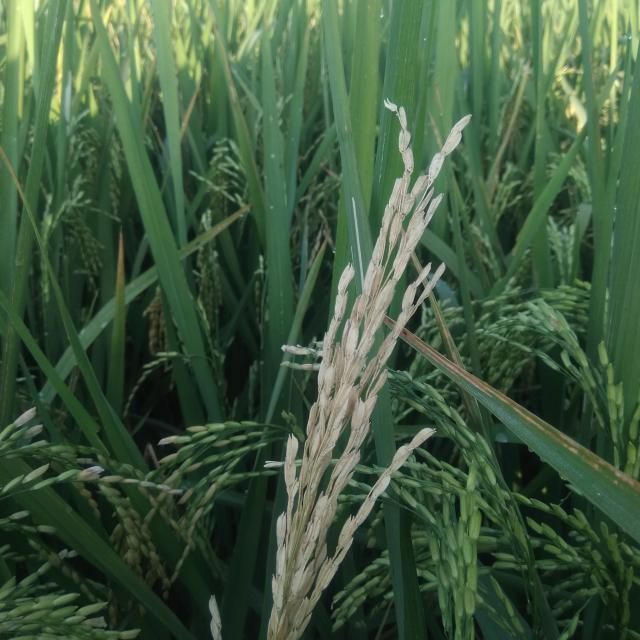Brown spot: (108, 225, 130, 280)
